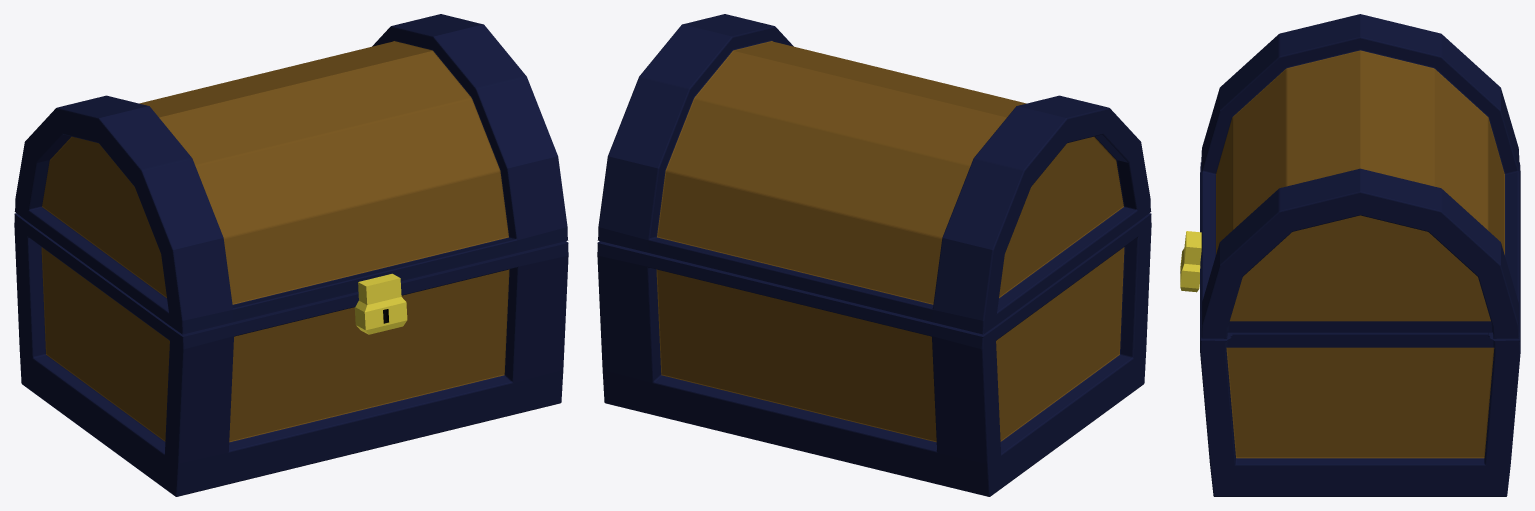
Rendered from Cofre 2.fbx.
3 views of the same model, side by side, from view 1: azimuth 30°, elevation 25°; view 2: azimuth 150°, elevation 25°; view 3: azimuth 270°, elevation 25° (orthographic). The views are drawn at different scales.
Visible parts, largest first — view 1: Cylinder, Cylinder.001; view 2: Cylinder; view 3: Cylinder, Cylinder.001.
Part boxes in pixels (x1,y1,x2,y2): Cylinder: (14, 14, 568, 496); Cylinder.001: (354, 273, 407, 334); Cylinder: (597, 14, 1151, 496); Cylinder: (1200, 14, 1520, 496); Cylinder.001: (1180, 231, 1201, 292).
Size of the model in its own units: 260 by 208 by 210.
